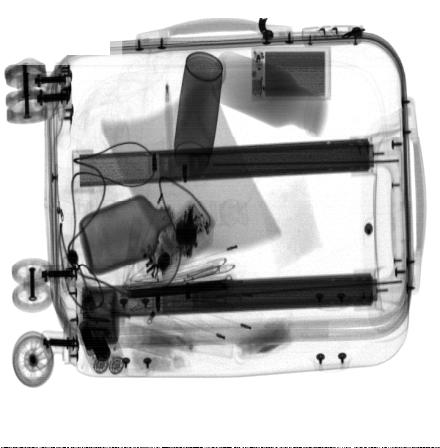Powerbank: (250, 46, 331, 100)
